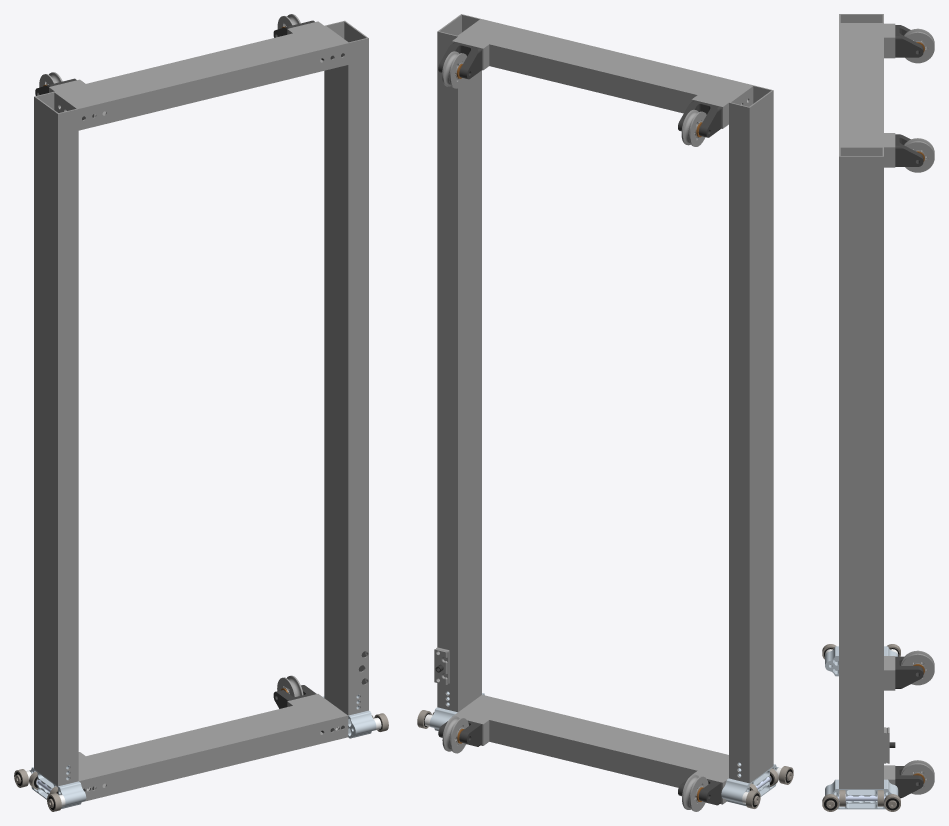
3 renders of one model, left to right at view 1: azimuth 30°, elevation 25°; view 2: azimuth 150°, elevation 25°; view 3: azimuth 270°, elevation 25°, orthographic. The views are drawn at different scales.
Parts seen in each view (by area): view 1: Tube 2"x1"x31" (×2), Tube 2"x1"x13" (×2), WCP-0199-001 Rev2; view 2: Tube 2"x1"x31" (×2), Tube 2"x1"x13" (×2), WCP-0298 (×2), WCP-0199-001 Rev2; view 3: Tube 2"x1"x31" (×2), Tube 2"x1"x13", WCP-0298 (×4), WCP-0096 (×4), WCP-0199-001 Rev2 (×2), Part 9, Part 7, Part 8.
Boxes of the visible parts, <box> form: Tube 2"x1"x31" (×2): <box>34,20,368,786</box>; Tube 2"x1"x13" (×2): <box>55,26,348,801</box>; WCP-0199-001 Rev2: <box>29,765,86,808</box>; Tube 2"x1"x31" (×2): <box>437,14,773,783</box>; Tube 2"x1"x13" (×2): <box>458,19,752,787</box>; WCP-0298 (×2): <box>438,42,721,137</box>; WCP-0199-001 Rev2: <box>721,762,778,806</box>; Tube 2"x1"x31" (×2): <box>839,14,883,788</box>; Tube 2"x1"x13": <box>839,23,883,147</box>; WCP-0298 (×4): <box>895,25,923,798</box>; WCP-0096 (×4): <box>901,32,934,794</box>; WCP-0199-001 Rev2 (×2): <box>825,646,898,809</box>; Part 9: <box>884,23,895,58</box>; Part 7: <box>884,656,895,690</box>; Part 8: <box>884,133,895,167</box>.
Bounding box in the file's own units: 0.4111 × 0.8128 × 0.127.
